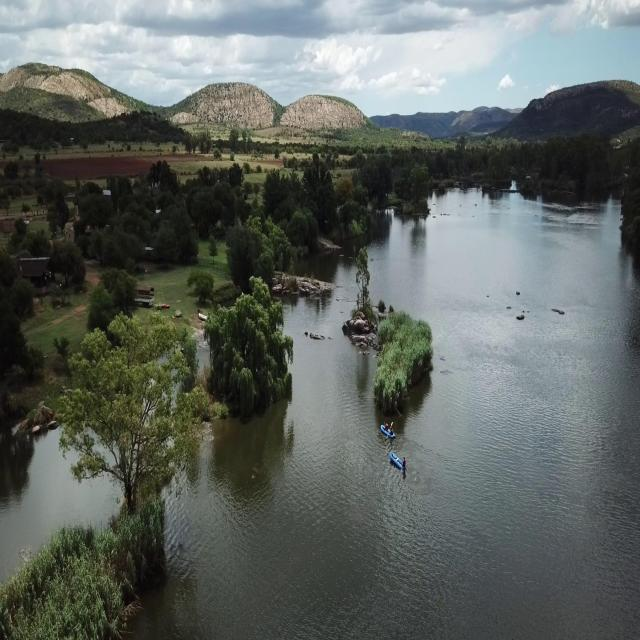kayak: (388, 446, 408, 474), (379, 418, 395, 442)
